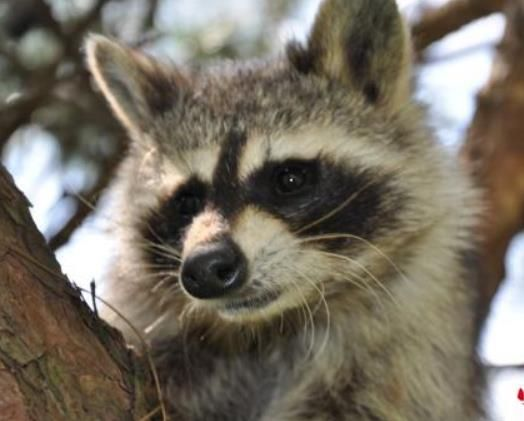raccoon: (56, 1, 489, 421)
